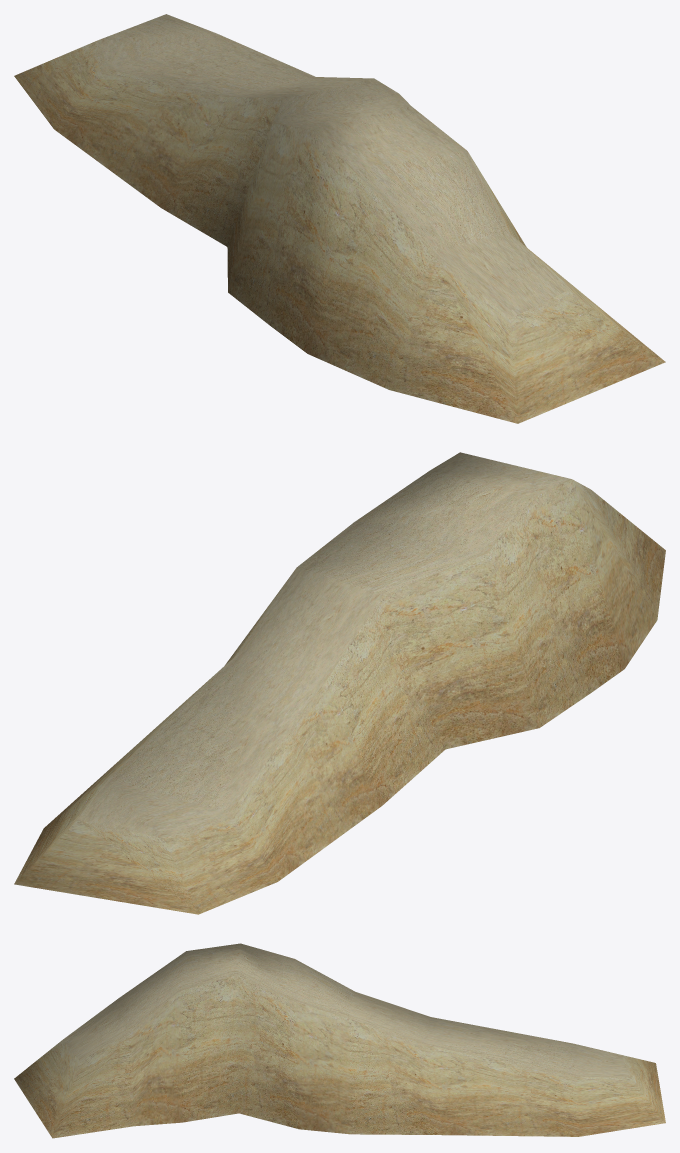
File: rock_beach_spine_a4_l4.fbx
3 renders of one model, top to bottom at view 1: azimuth 30°, elevation 25°; view 2: azimuth 150°, elevation 25°; view 3: azimuth 270°, elevation 25°, orthographic. The views are drawn at different scales.
Visible parts, largest first — view 1: mesh_node; view 2: mesh_node; view 3: mesh_node.
Part boxes in pixels (<box>): mesh_node: <box>14,14,665,423</box>; mesh_node: <box>14,452,665,914</box>; mesh_node: <box>14,943,665,1138</box>.
Bounding box in the file's own units: 5.29 × 3.54 × 16.71.
